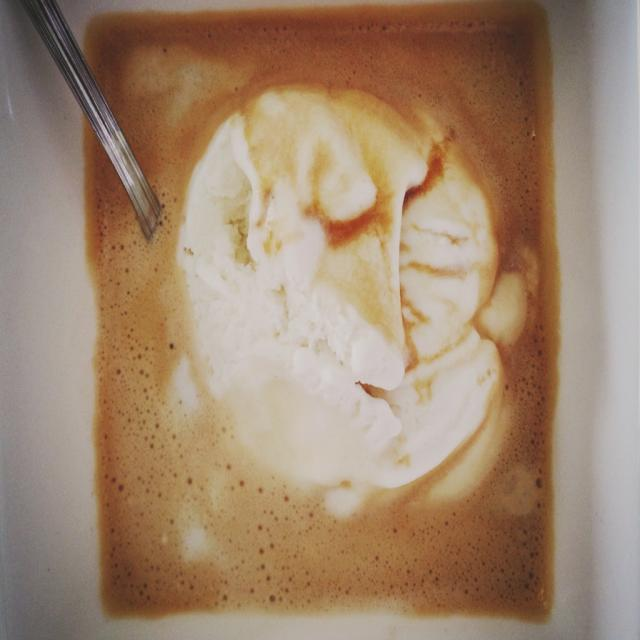Coffee: (84, 15, 558, 629)
